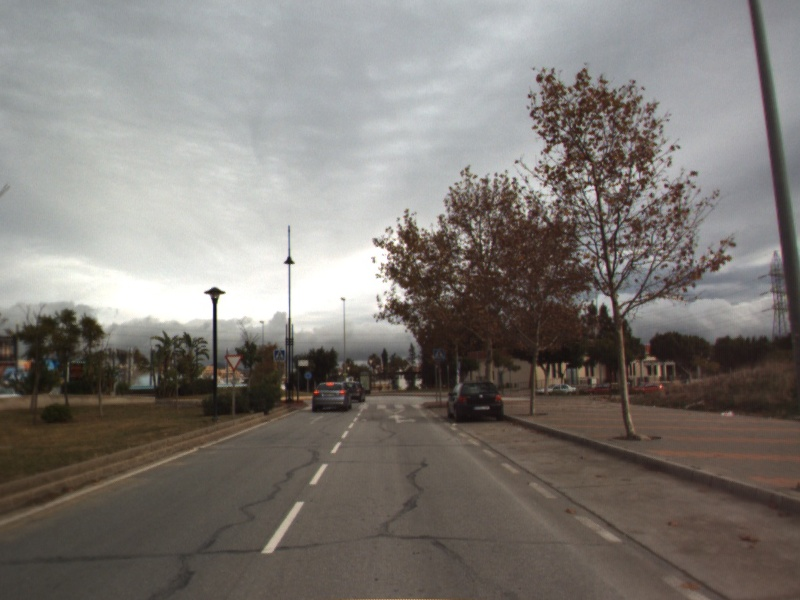STRAIGHT_RIGHT: (385, 412, 419, 425)
